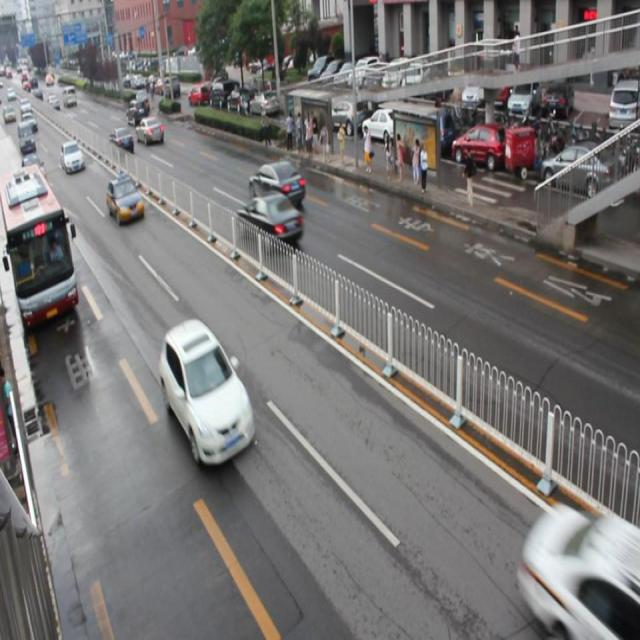car: (160, 318, 256, 466), (236, 192, 305, 250), (249, 162, 306, 208), (106, 172, 144, 222), (136, 118, 164, 146), (61, 140, 84, 173), (109, 128, 134, 154)
van: (1, 167, 79, 328)
